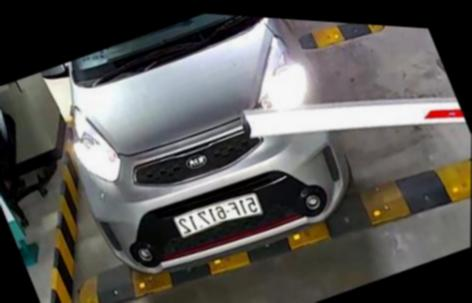License_Plate: (178, 187, 266, 246)
